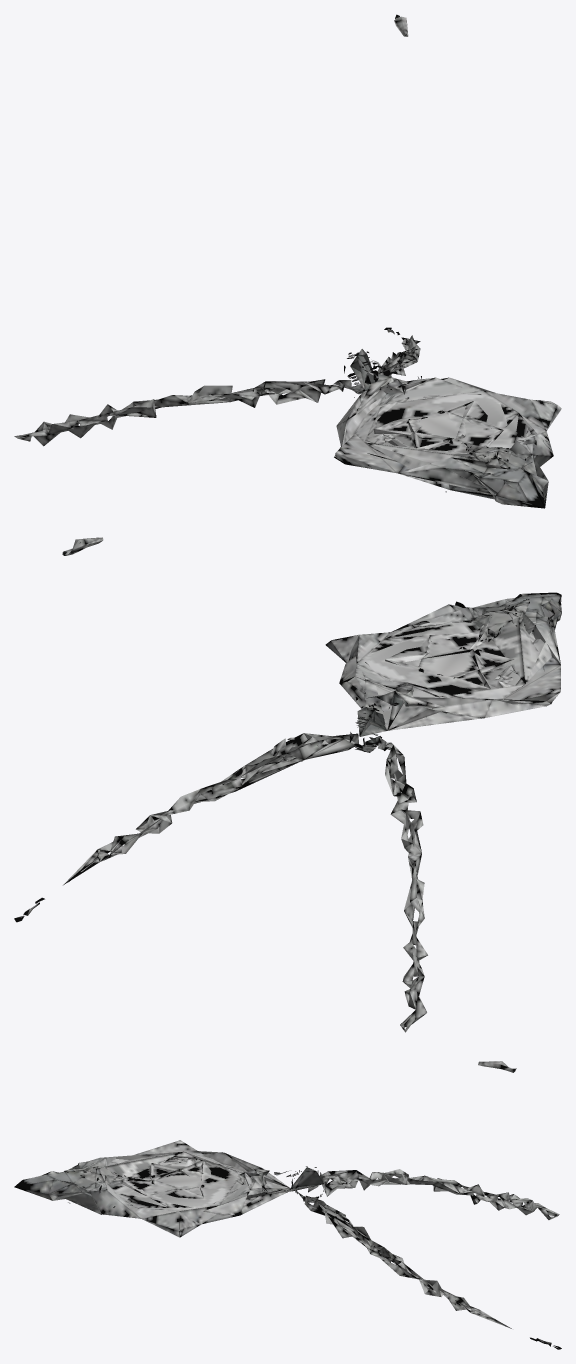
Rendered from medallion_necklace_LOD3.glb.
3 renders of one model, top to bottom at view 1: azimuth 30°, elevation 25°; view 2: azimuth 150°, elevation 25°; view 3: azimuth 270°, elevation 25°, orthographic. The views are drawn at different scales.
Visible parts, largest first — view 1: medallion_necklace_LOD3; view 2: medallion_necklace_LOD3; view 3: medallion_necklace_LOD3.
Boxes of the visible parts, x1=… form: medallion_necklace_LOD3: x1=14, y1=14, x2=561, y2=508; medallion_necklace_LOD3: x1=14, y1=537, x2=561, y2=1032; medallion_necklace_LOD3: x1=14, y1=1061, x2=561, y2=1349.
Bounding box in the file's own units: 0.5657 × 0.5117 × 0.8655.
Materials: 1 (1 with a texture image).
